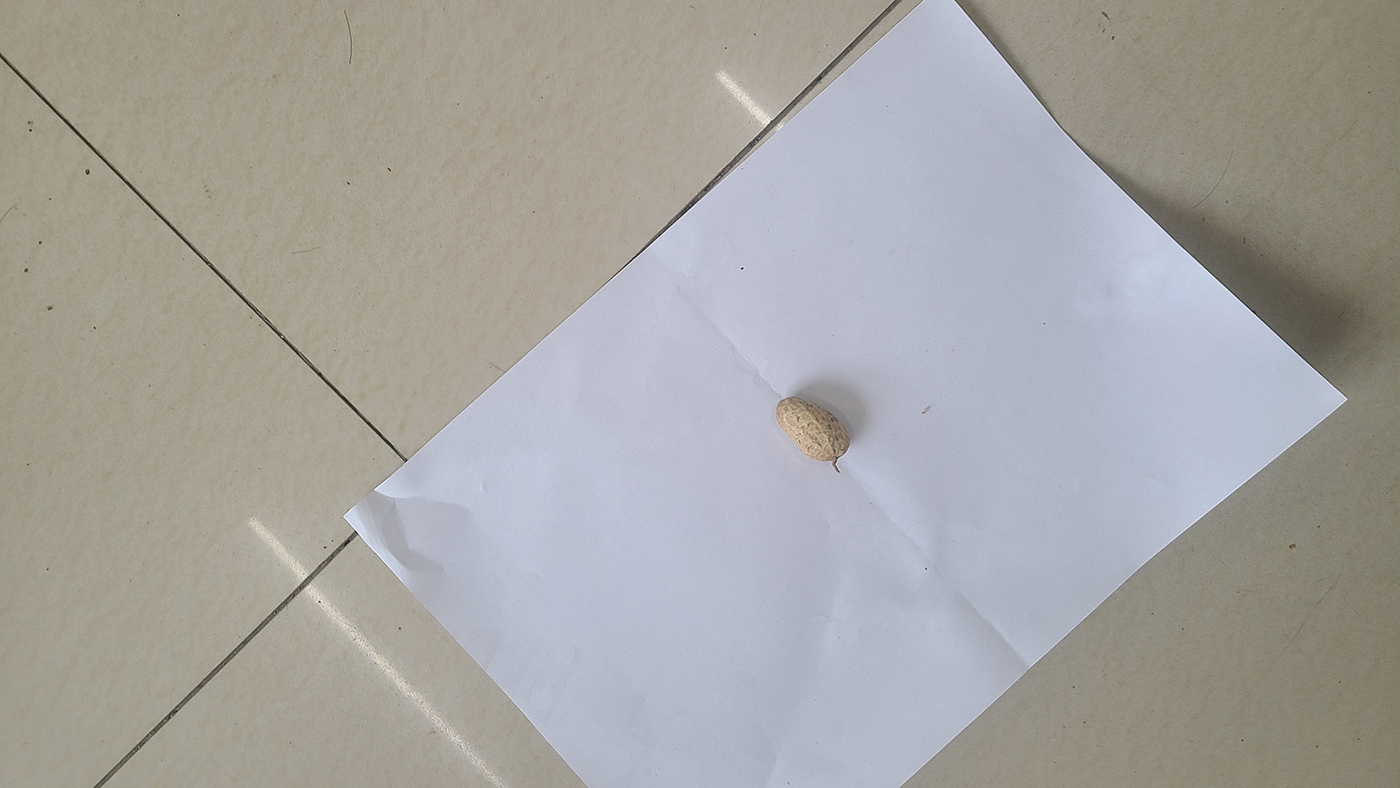h: (775, 395, 851, 462)
